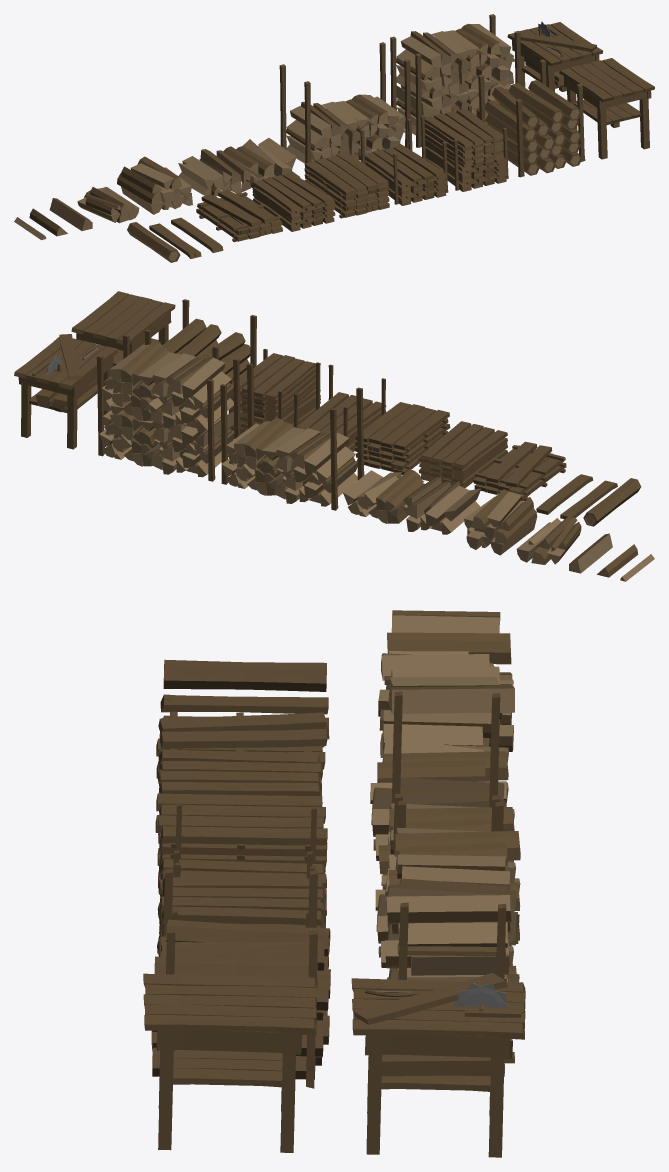
File: lumberpack_Collection.fbx
3 views of the same model, one above another, from view 1: azimuth 30°, elevation 25°; view 2: azimuth 150°, elevation 25°; view 3: azimuth 270°, elevation 25° (orthographic). The views are drawn at different scales.
Visible parts, largest first — view 1: Firewood_pile_05.002, Firewood_pile_05.005, Firewood_pile_05.004, Firewood_pile_05.007, Firewood_pile_05.012, Firewood_pile_05.001, Firewood_pile_05.010, Firewood_pile_05.008, Firewood_pile_05.015, Firewood_pile_05.011, Firewood_pile_05.009, Firewood_pile_05.016 (+6 smaller); view 2: Firewood_pile_05.002, Firewood_pile_05.005, Firewood_pile_05.001, Firewood_pile_05.015, Firewood_pile_05.007, Firewood_pile_05.010, Firewood_pile_05.012, Firewood_pile_05.011, Firewood_pile_05.009, Firewood_pile_05.004, Firewood_pile_05.016, Firewood_pile_05.008 (+6 smaller); view 3: Firewood_pile_05.002, Firewood_pile_05.015, Firewood_pile_05.012, Firewood_pile_05.004, Firewood_pile_05.010, Firewood_pile_05.001, Firewood_pile_05.016, Firewood_pile_05.007, Firewood_pile_05.011, Firewood_pile_05.009, Firewood_pile_05.005, Firewood_pile_05.024 (+5 smaller).
Boxes of the visible parts, x1,y1,x2,y2 form: Firewood_pile_05.002: (390,14,520,147); Firewood_pile_05.005: (279,42,410,174); Firewood_pile_05.004: (478,59,585,177); Firewood_pile_05.007: (420,105,508,191); Firewood_pile_05.012: (559,58,654,159); Firewood_pile_05.001: (178,138,300,196); Firewood_pile_05.010: (304,152,389,218); Firewood_pile_05.008: (360,119,448,205); Firewood_pile_05.015: (507,21,602,91); Firewood_pile_05.011: (252,172,335,231); Firewood_pile_05.009: (196,189,282,242); Firewood_pile_05.016: (117,156,192,214); Firewood_pile_05.002: (96,335,240,481); Firewood_pile_05.005: (220,363,364,510); Firewood_pile_05.001: (343,469,481,534); Firewood_pile_05.015: (14,334,117,449); Firewood_pile_05.007: (228,349,320,434); Firewood_pile_05.010: (355,402,450,474); Firewood_pile_05.012: (71,291,175,365); Firewood_pile_05.011: (418,421,507,487); Firewood_pile_05.009: (473,441,566,500); Firewood_pile_05.004: (144,299,256,382); Firewood_pile_05.016: (464,489,537,555); Firewood_pile_05.008: (294,364,386,451); Firewood_pile_05.002: (385,800,520,1076); Firewood_pile_05.015: (351,972,525,1157); Firewood_pile_05.012: (143,973,317,1152); Firewood_pile_05.004: (151,868,330,1088); Firewood_pile_05.010: (155,793,327,887); Firewood_pile_05.001: (370,723,508,860); Firewood_pile_05.016: (378,666,514,757); Firewood_pile_05.007: (157,862,324,956); Firewood_pile_05.011: (157,749,322,812); Firewood_pile_05.009: (156,711,329,779); Firewood_pile_05.005: (375,691,514,967); Firewood_pile_05.024: (163,659,326,691).
Size of the model in its own units: 952 by 155 by 285.
